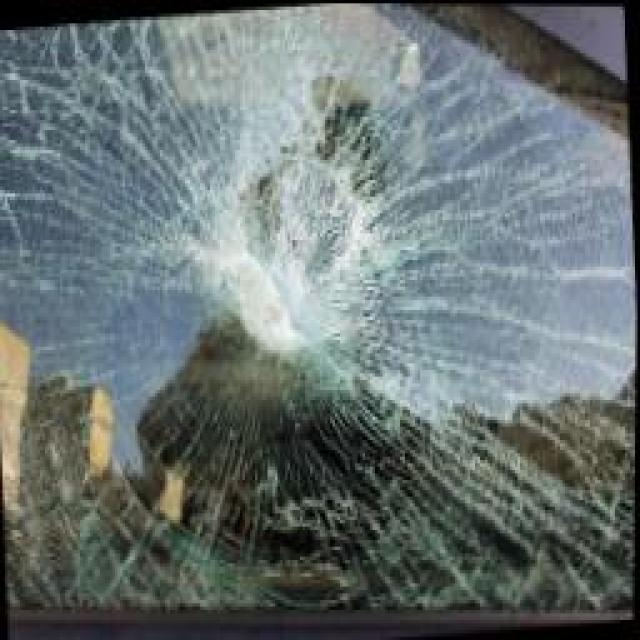Windshield: (0, 0, 640, 618)
